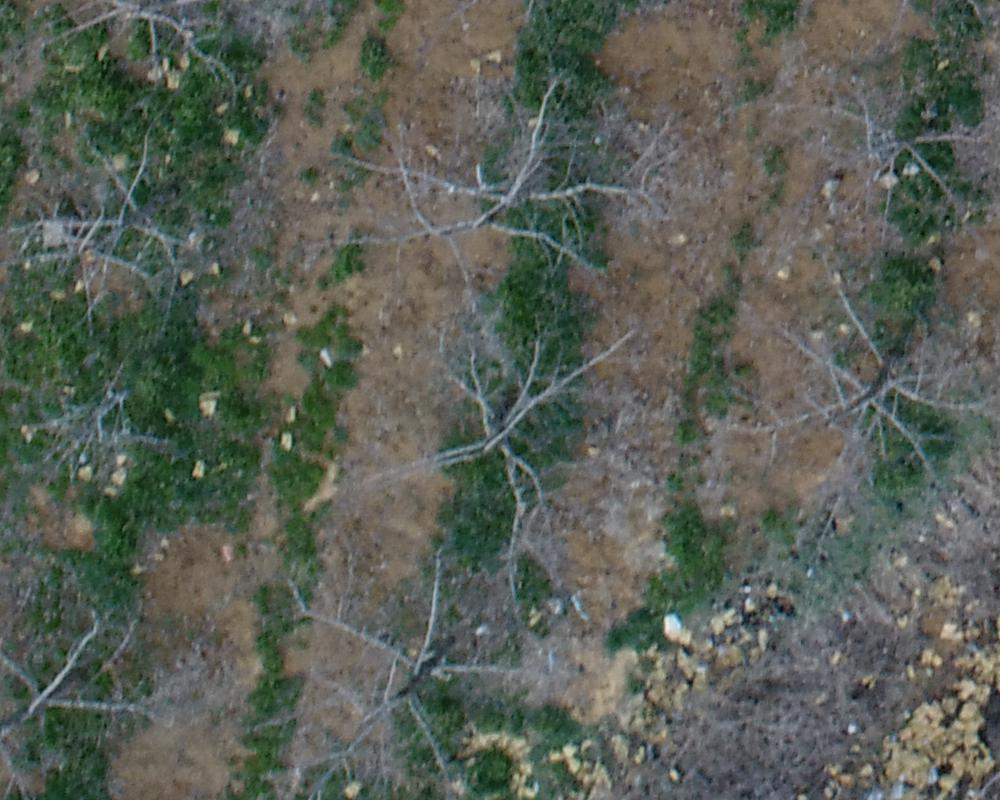apple: (320, 272, 676, 570), (324, 50, 680, 304), (248, 535, 587, 790), (735, 263, 985, 511), (10, 554, 191, 790), (10, 124, 207, 335), (778, 63, 990, 246), (10, 365, 185, 500)
